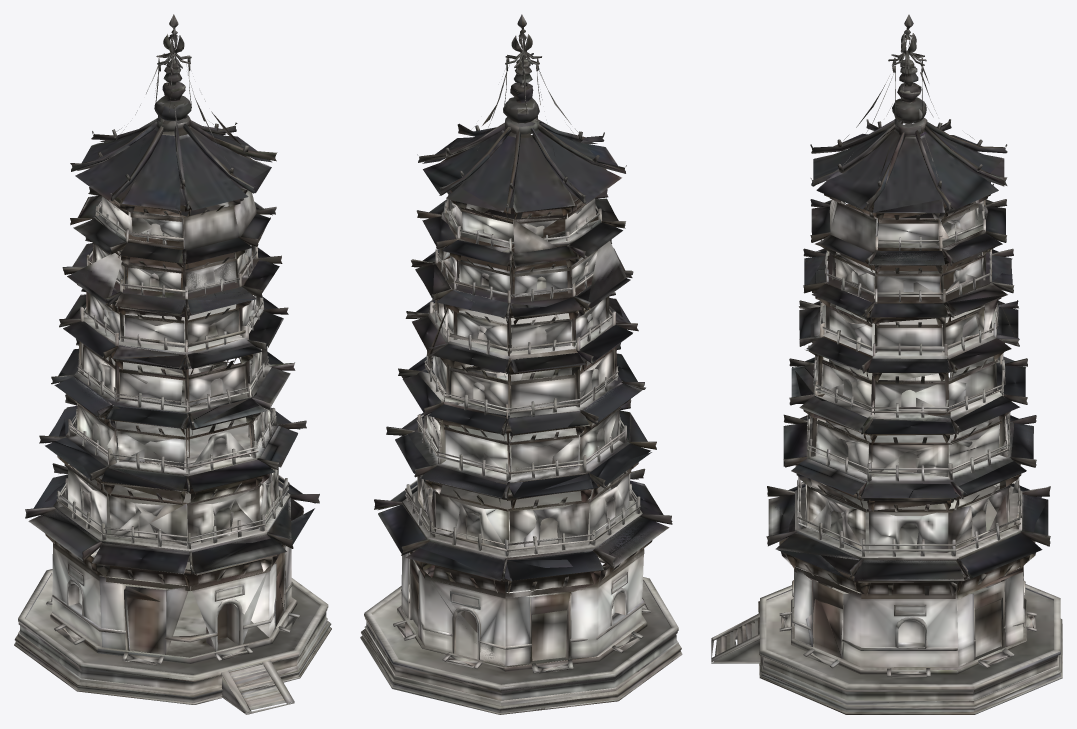
File: changqing_pagoda.glb
The picture shows the model from 3 angles, left to right: view 1: azimuth 30°, elevation 25°; view 2: azimuth 150°, elevation 25°; view 3: azimuth 270°, elevation 25°; orthographic projection. The views are drawn at different scales.
Size of the model in its own units: 0.4072 by 0.9521 by 0.4756.
Materials: 1 (1 with a texture image).
